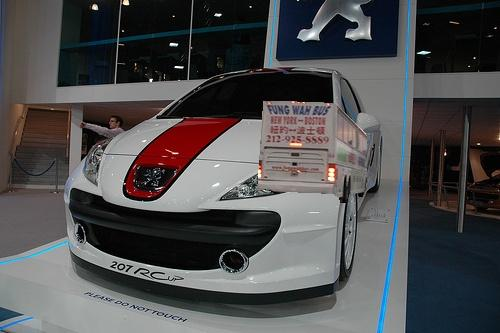tampered: (258, 102, 367, 203)
